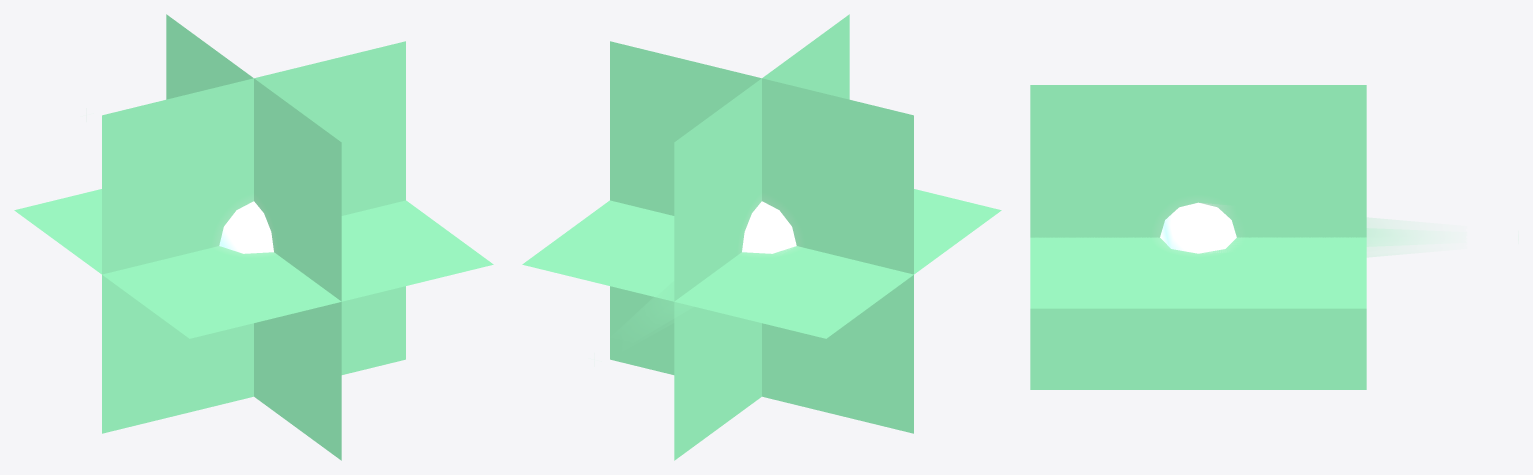
File: fx_wisp_t3.glb
3 views of the same model, side by side, from view 1: azimuth 30°, elevation 25°; view 2: azimuth 150°, elevation 25°; view 3: azimuth 270°, elevation 25° (orthographic). The views are drawn at different scales.
Parts seen in each view (by area): view 1: fx_wisp_glow, fx_wisp_core; view 2: fx_wisp_glow, fx_wisp_core, fx_wisp_tail; view 3: fx_wisp_glow, fx_wisp_tail, fx_wisp_core.
Boxes of the visible parts, x1=… form: fx_wisp_glow: x1=14, y1=14, x2=493, y2=460; fx_wisp_core: x1=219, y1=201, x2=273, y2=253; fx_wisp_glow: x1=522, y1=14, x2=1001, y2=460; fx_wisp_core: x1=742, y1=201, x2=796, y2=253; fx_wisp_tail: x1=633, y1=235, x2=793, y2=333; fx_wisp_glow: x1=1030, y1=85, x2=1366, y2=389; fx_wisp_tail: x1=1200, y1=203, x2=1433, y2=256; fx_wisp_core: x1=1160, y1=202, x2=1236, y2=253.
Size of the model in its own units: 1.05 by 1.05 by 1.52.
Materials: 3 (2 with a texture image).
